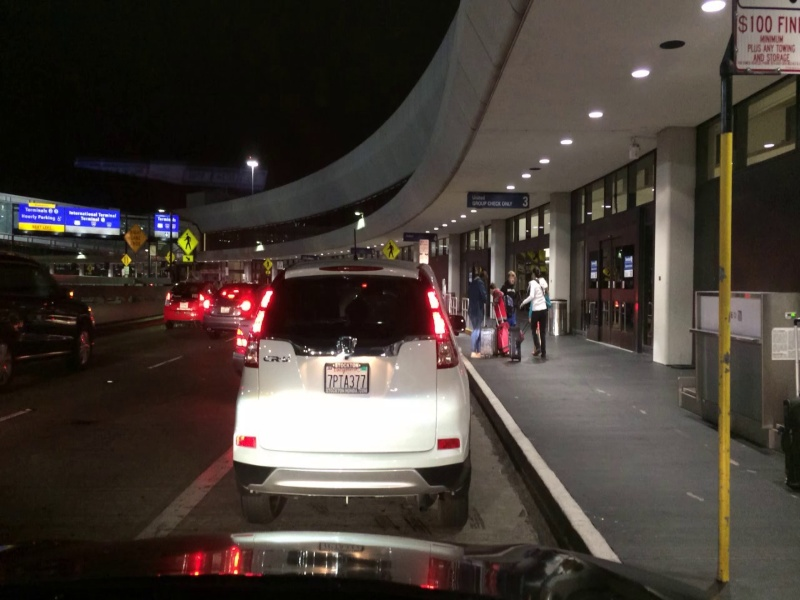car: (226, 270, 477, 527), (1, 253, 105, 371), (210, 277, 255, 333), (159, 282, 209, 329)
person: (527, 265, 551, 359), (487, 282, 514, 360), (468, 264, 488, 364), (507, 268, 521, 358)
